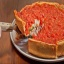pizza: (13, 1, 64, 57)
